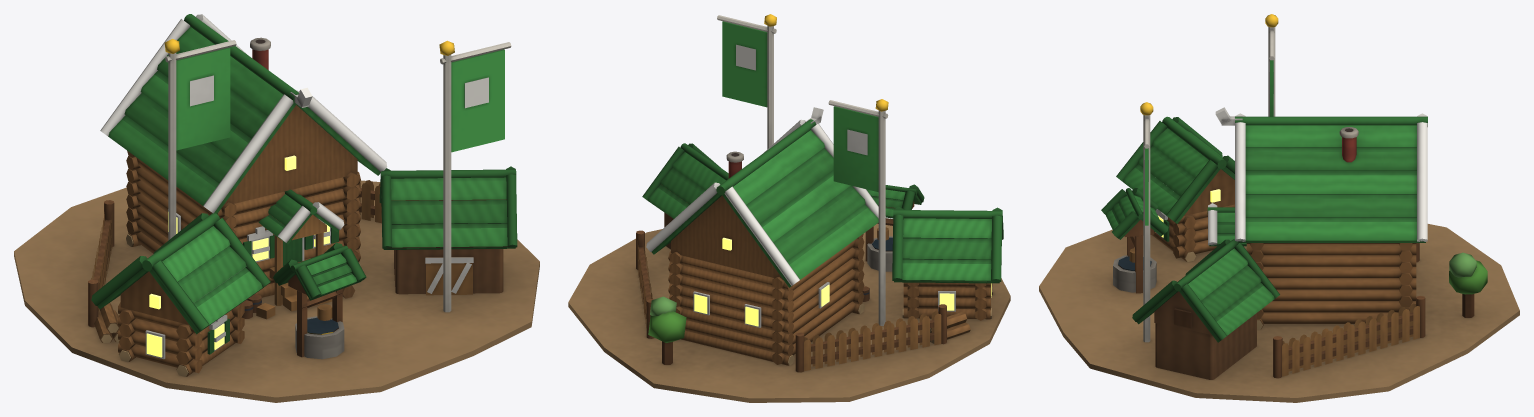
Rendered from residence_dl2_green.glb.
The picture shows the model from 3 angles, left to right: view 1: azimuth 30°, elevation 25°; view 2: azimuth 150°, elevation 25°; view 3: azimuth 270°, elevation 25°; orthographic projection. The views are drawn at different scales.
Parts seen in each view (by area): view 1: residence_dl2_green; view 2: residence_dl2_green; view 3: residence_dl2_green.
Boxes of the visible parts, box(x1,y1,x2,y2) form: residence_dl2_green: box(14, 14, 539, 402); residence_dl2_green: box(568, 14, 1010, 402); residence_dl2_green: box(1039, 14, 1519, 402).
Size of the model in its own units: 1.55 by 0.904 by 1.61.
Materials: 2 (1 with a texture image).
